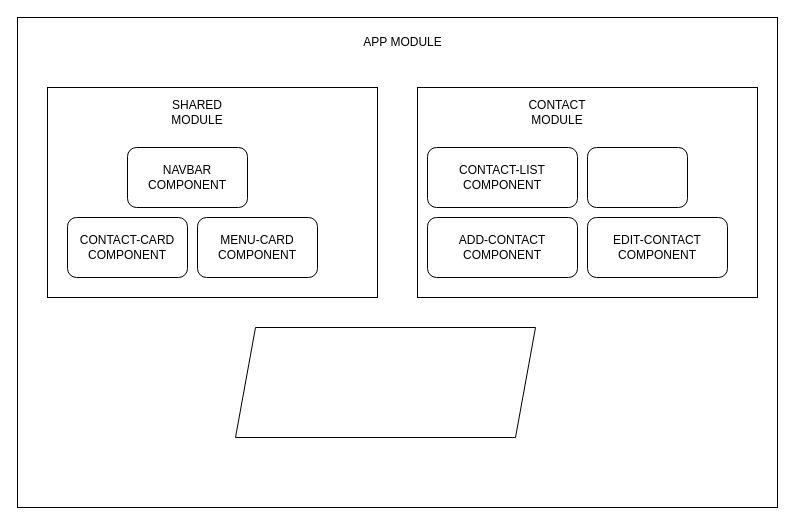
This 795x525 diagram has some shape labels left out. Here are the shapes that lost their labels. From the top down, the centre of each, then its label:
At (637,177): "CONTACT COMPONENT".
At (385,382): "CONTACT SERVICE".
